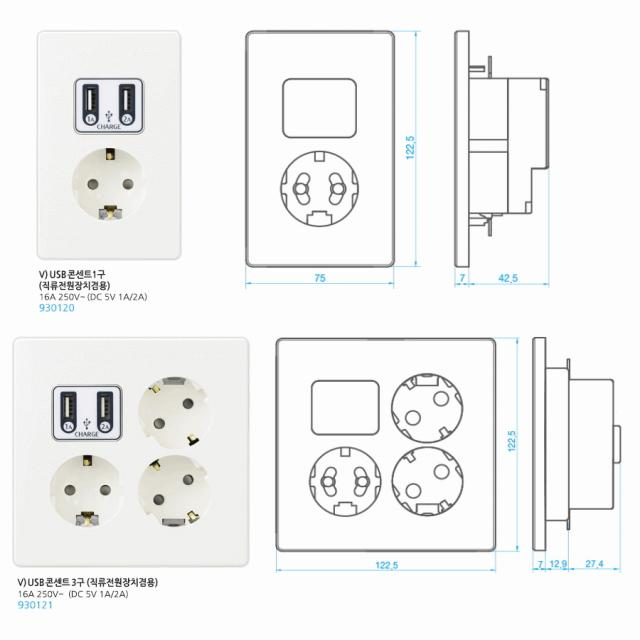typeb: (8, 329, 255, 576), (31, 21, 202, 268)
